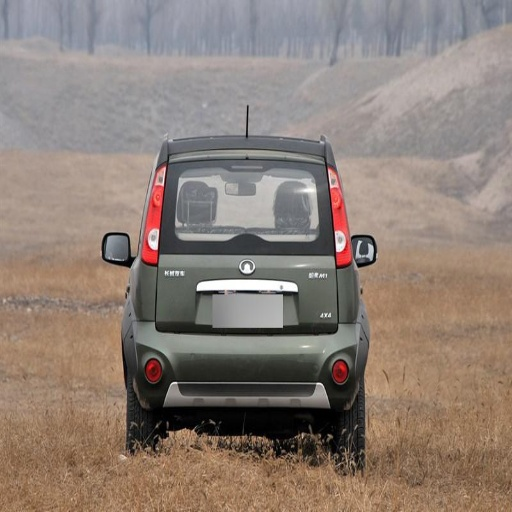back_bumper: (124, 313, 367, 404)
trunk: (139, 232, 350, 339)
